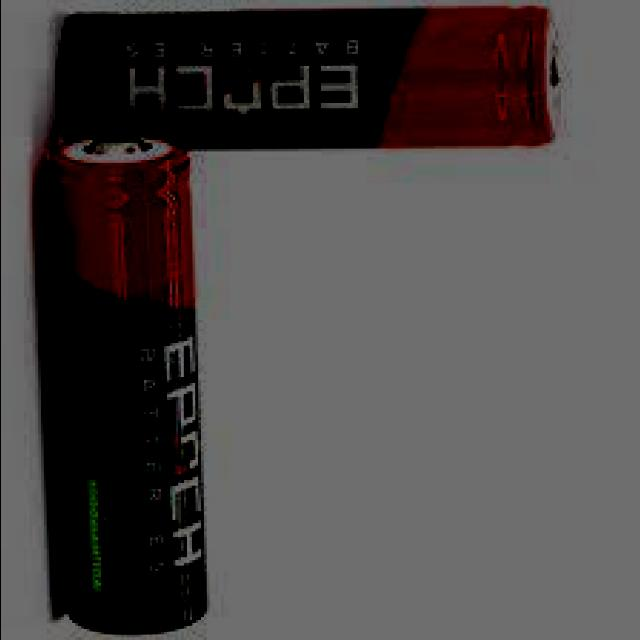AA: (38, 129, 209, 637), (50, 3, 569, 154)
